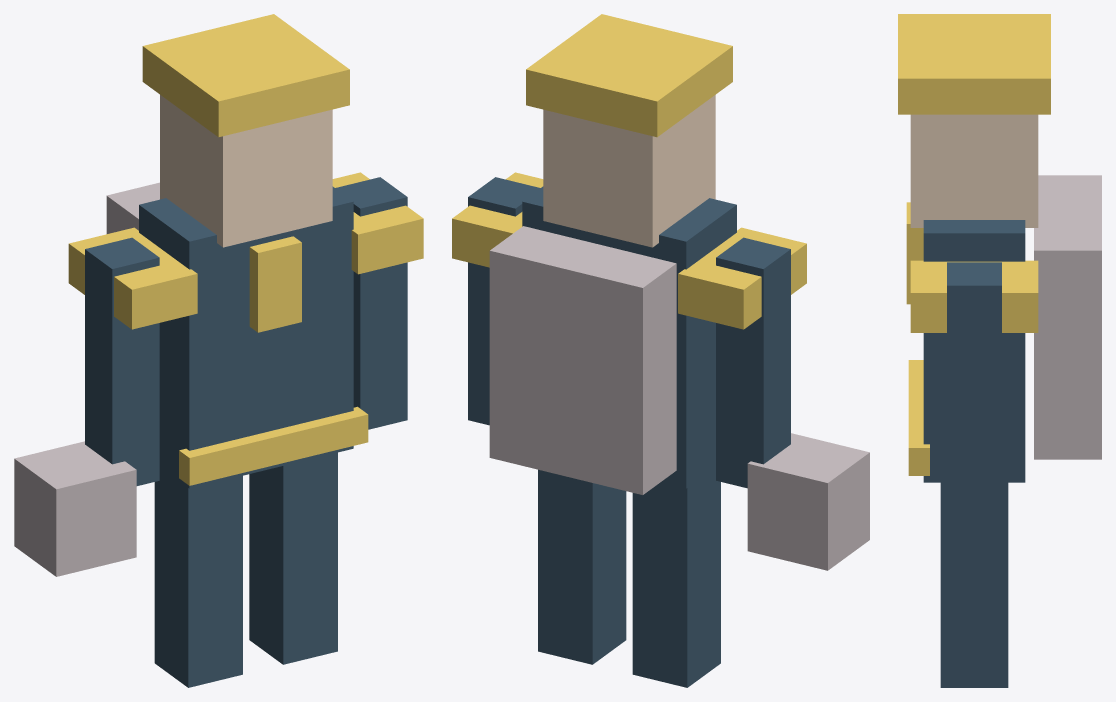
Rendered from 08_auren_whispercoil_pilgrim_at_emergency.glb.
The picture shows the model from 3 angles, left to right: view 1: azimuth 30°, elevation 25°; view 2: azimuth 150°, elevation 25°; view 3: azimuth 270°, elevation 25°; orthographic projection.
Parts seen in each view (by area): view 1: Auren Whispercoil, Pilgrim at Emergency; view 2: Auren Whispercoil, Pilgrim at Emergency; view 3: Auren Whispercoil, Pilgrim at Emergency.
Part boxes in pixels (x1,y1,x2,y2): Auren Whispercoil, Pilgrim at Emergency: (14, 14, 423, 687); Auren Whispercoil, Pilgrim at Emergency: (452, 14, 869, 687); Auren Whispercoil, Pilgrim at Emergency: (898, 14, 1101, 687).
Size of the model in its own units: 0.9633 by 1.52 by 0.4647.
